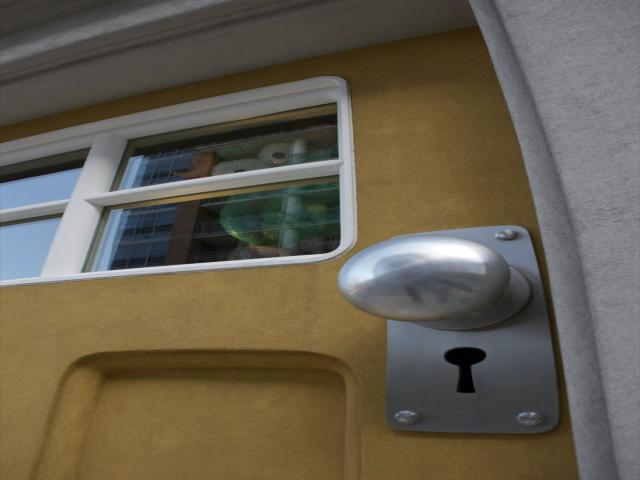Door-handle: (340, 225, 560, 435)
